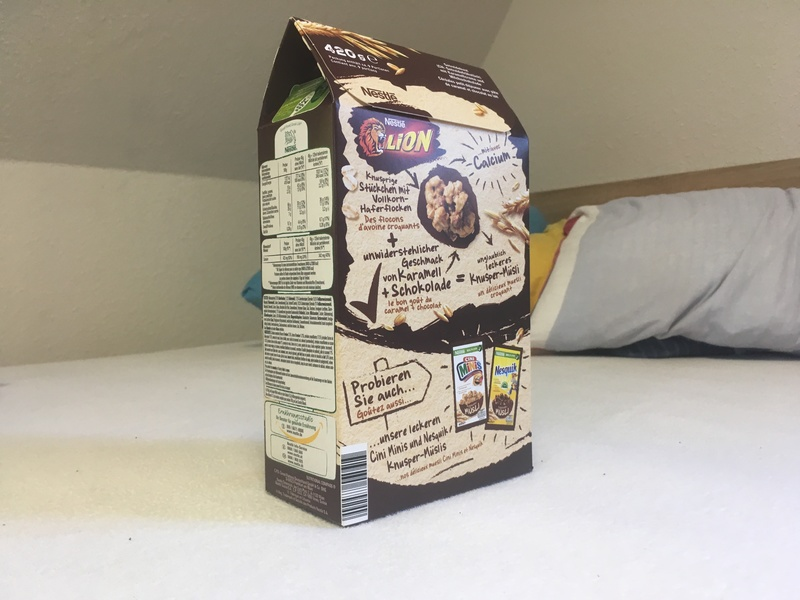cereals: (257, 18, 533, 523)
